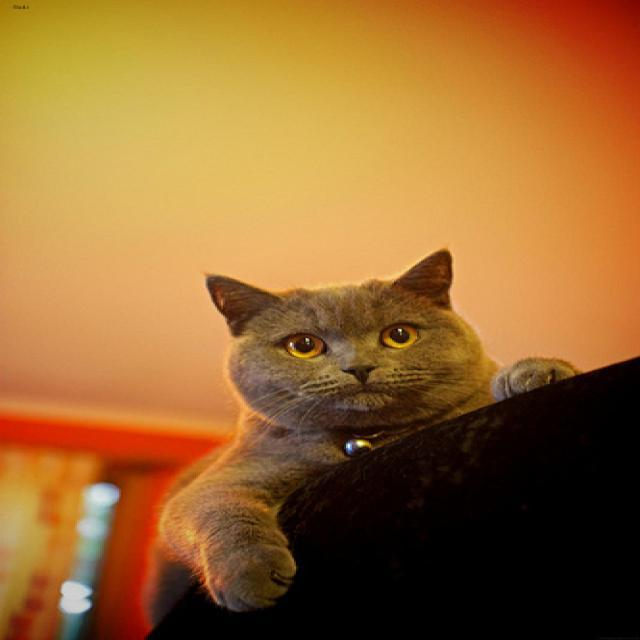British_Shorthair: (164, 242, 513, 436)
